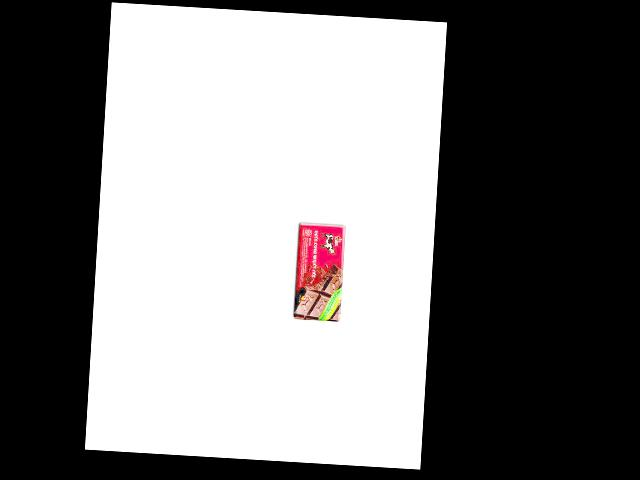chocolate: (288, 219, 347, 322)
